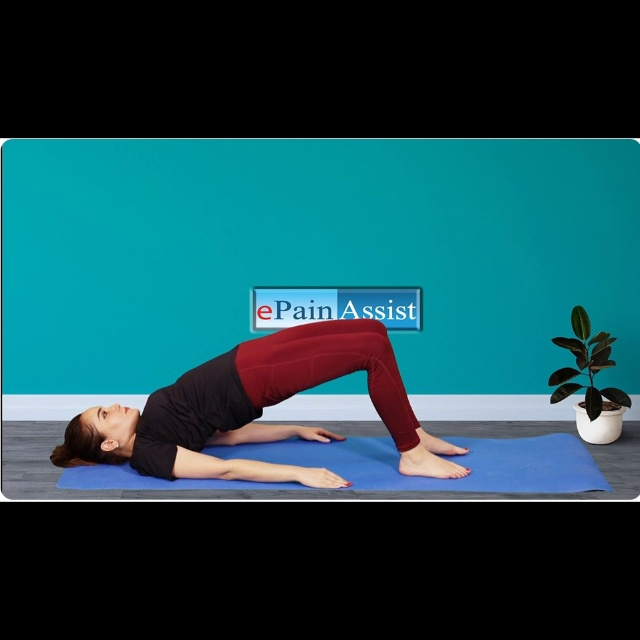Bridge_Pose: (57, 314, 477, 496)
